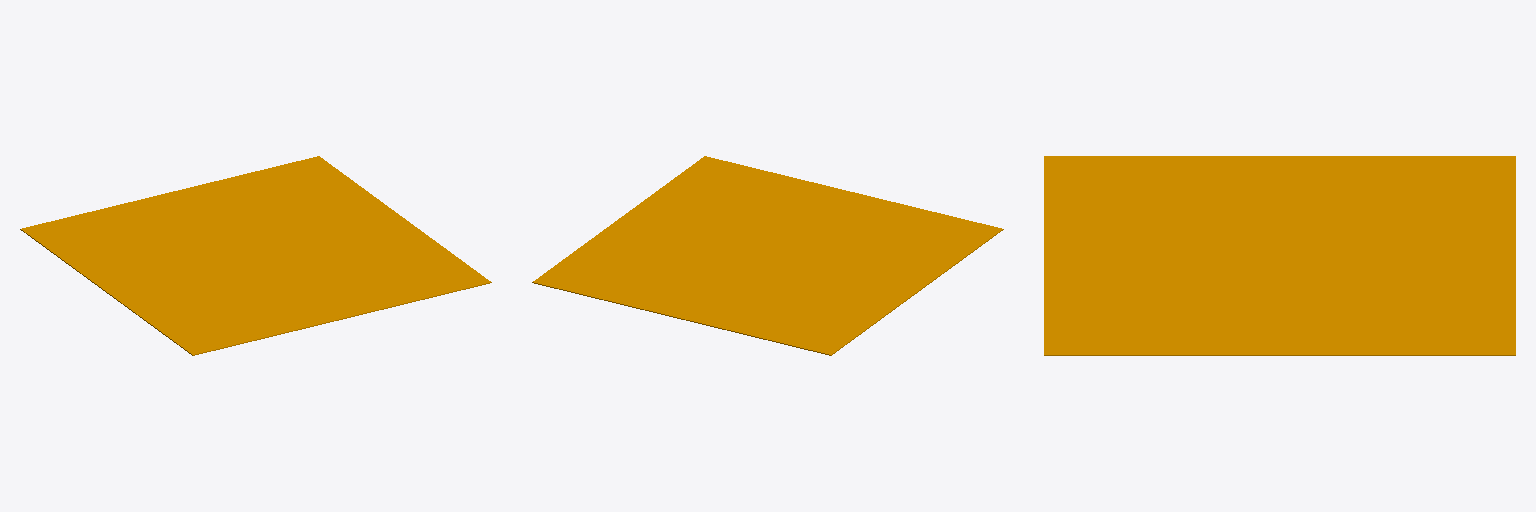
robot.urdf — right_wall:
<?xml version='1.0' encoding='UTF-8'?>
<robot name="right_wall">
  <link name="base_link">
    <inertial>
      <origin xyz="0.0 0.0 0.0" rpy="0.0 -0.0 0.0"/>
      <mass value="1.0"/>
      <inertia ixx="1.0" ixy="0.0" ixz="0.0" iyy="1.0" iyz="0.0" izz="1.0"/>
    </inertial>
    <visual name="base_link_visual">
      <geometry>
        <box size="32 0.1 32"/>
      </geometry>
      <origin xyz="8.0 8 0.0" rpy="1.57075 3.14159 0"/>
    </visual>
    <collision name="base_link_collision">
      <geometry>
        <box size="32 0.1 32"/>
      </geometry>
      <origin xyz="8.0 8.0 0.0" rpy="1.57075 3.14159 0"/>
    </collision>
  </link>
</robot>

--- Render facts (derived) ---
Views: 3 orthographic renders of the robot side by side, from view 1: azimuth 30°, elevation 25°; view 2: azimuth 150°, elevation 25°; view 3: azimuth 270°, elevation 25°.
Robot: right_wall — 1 links, 0 joints (none); root link base_link; default pose: every joint at zero.
Visible links, largest first — view 1: base_link; view 2: base_link; view 3: base_link.
Link boxes in pixels (bbox=[...]): base_link: bbox=[20, 156, 491, 355]; base_link: bbox=[532, 156, 1003, 355]; base_link: bbox=[1044, 156, 1515, 355].
Bounding box of the posed robot: 32 × 32 × 0.1016 m (x, y, z).
Geometry: primitives only (box / cylinder / sphere), no mesh files.
